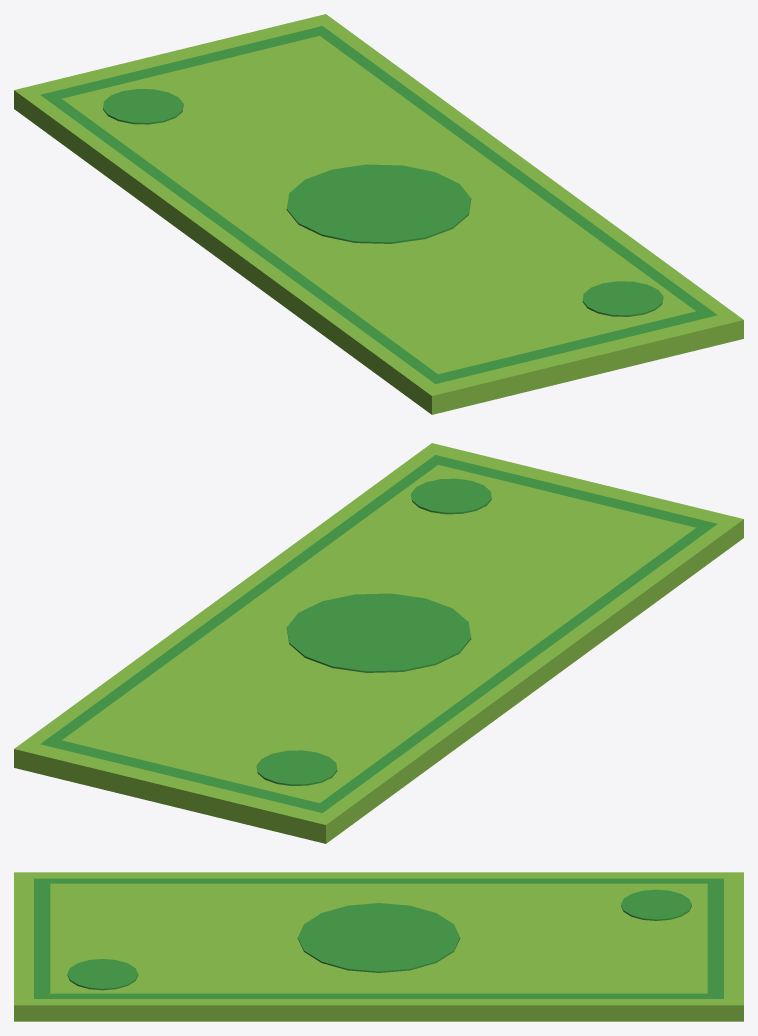
File: Cash.fbx
3 views of the same model, one above another, from view 1: azimuth 30°, elevation 25°; view 2: azimuth 150°, elevation 25°; view 3: azimuth 270°, elevation 25° (orthographic). The views are drawn at different scales.
Parts seen in each view (by area): view 1: Cash; view 2: Cash; view 3: Cash.
Boxes of the visible parts, left/top/right/bottom form: Cash: left=14, top=14, right=743, bottom=414; Cash: left=14, top=443, right=743, bottom=843; Cash: left=14, top=872, right=743, bottom=1021.
Bounding box in the file's own units: 4.12 × 0.2586 × 9.56.
1 material, 1 textured.
